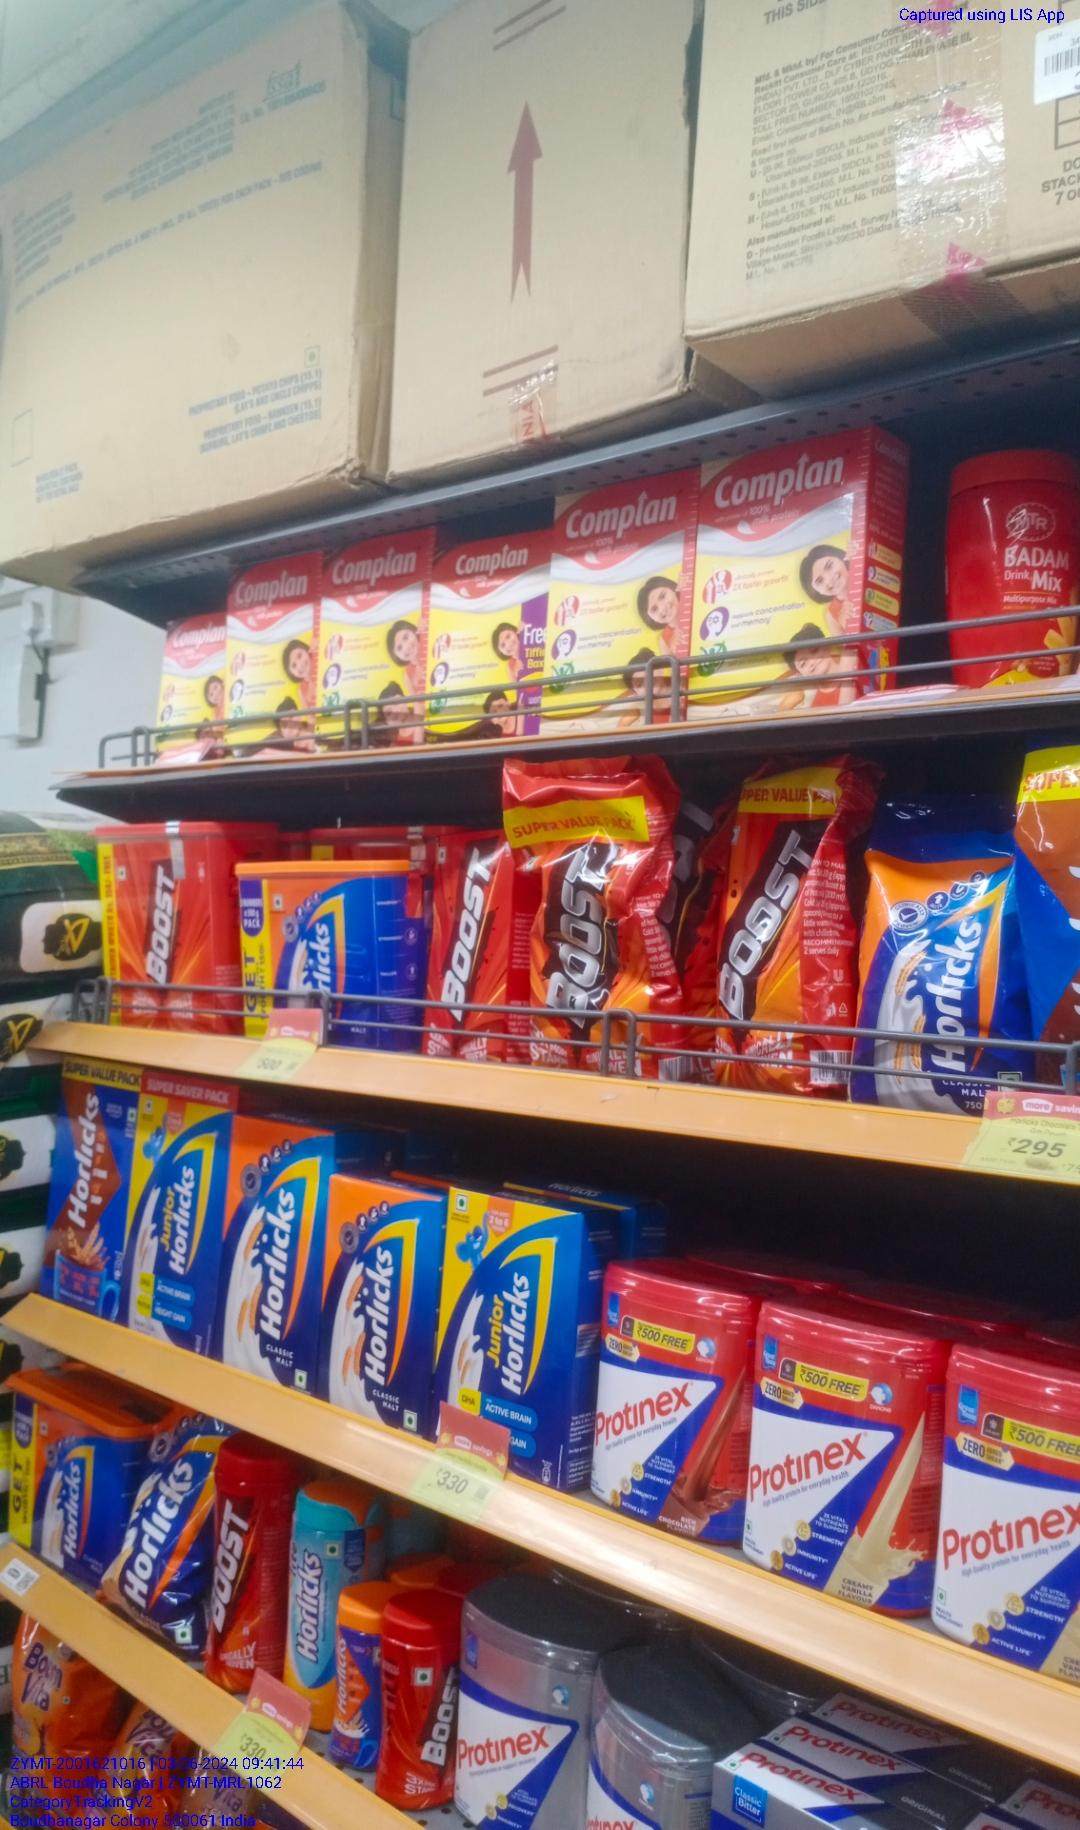HORLICKS_LITE_REGULAR_MALT_500_GM_JAR: (282, 1489, 338, 1713)
HORLICK_CLASSIC_MALT_500_G_PACK: (329, 1175, 436, 1434)
HORLICK_MALT_1_KG_CONTAINER: (229, 855, 428, 1046), (3, 1375, 120, 1582)
PROTINEX_CHOCOLATE_400_G_JAR: (594, 1262, 741, 1538)
PROTINEX_ORIGINAL_400_G_JAR: (451, 1605, 589, 1830)
PROTINEX_VANILLA_400_G_JAR: (747, 1304, 932, 1605), (939, 1353, 1080, 1675)
